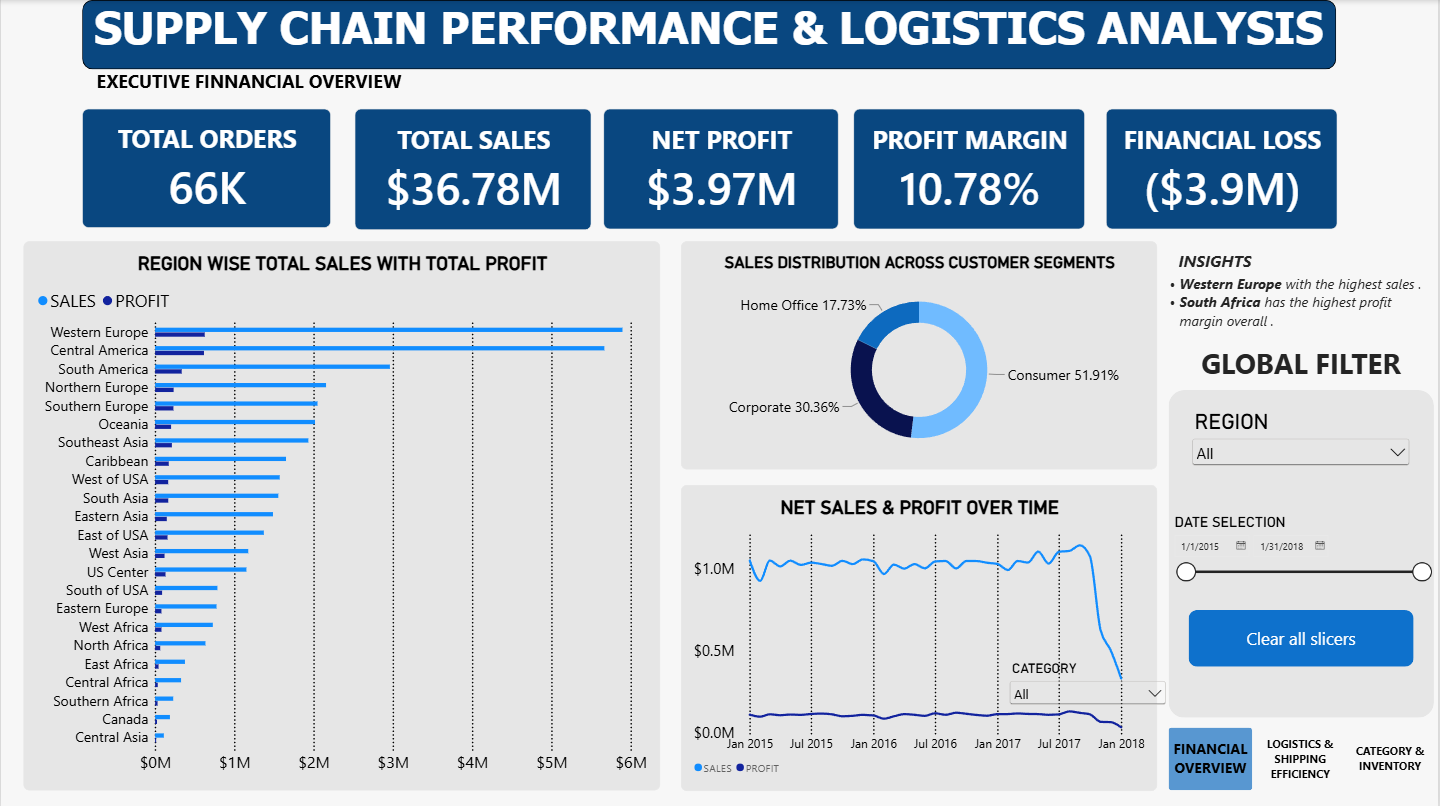

Layout of this report page (visuals, bound fields, positions):
{"tool":"powerbi","page":{"name":"FINANCIAL OVERVIEW","canvas":[1920,1080],"ordinal":0},"visuals":[{"type":"shape","box":[1559.9,521.2,354.7,437.9],"z":0},{"type":"shape","box":[108.7,0,1675,92.5],"z":1000},{"type":"textbox","box":[75.7,0,1740,93.1],"z":2000},{"type":"cardVisual","fields":{"Data":["_all_measures.total_order"]},"box":[108.6,144.8,333,159.3],"z":3000},{"type":"cardVisual","fields":{"Data":["_all_measures.total_sales"]},"box":[472.3,144.8,316.7,162.9],"z":4000},{"type":"clusteredBarChart","title":"REGION WISE TOTAL SALES WITH TOTAL PROFIT","fields":{"Category":["public supply_chain_clean.order_region"],"Y":["_all_measures.total_sales","_all_measures.total_profit"]},"box":[30.3,322.5,850.5,733.6],"z":5000},{"type":"cardVisual","fields":{"Data":["_all_measures.total_profit"]},"box":[805.3,144.8,314.9,161.1],"z":6000},{"type":"cardVisual","fields":{"Data":["_all_measures.profit_margin%"]},"box":[1138.3,144.8,309.5,161.1],"z":7000},{"type":"lineChart","title":"NET SALES & PROFIT OVER TIME","fields":{"Category":["public supply_chain_clean.order_date.Variation.Date Hierarchy.Year","public supply_chain_clean.order_date.Variation.Date Hierarchy.Quarter","public supply_chain_clean.order_date.Variation.Date Hierarchy.Month"],"Y":["_all_measures.total_sales","_all_measures.total_profit"]},"box":[908.9,647.1,636.3,409],"z":8000},{"type":"cardVisual","fields":{"Data":["_all_measures.total_financial_loss"]},"box":[1476.7,144.8,309.5,161.1],"z":9000},{"type":"donutChart","title":"SALES DISTRIBUTION ACROSS CUSTOMER SEGMENTS","fields":{"Category":["public supply_chain_clean.customer_segment"],"Y":["_all_measures.total_sales"]},"box":[908.9,322.5,636.3,305.1],"z":10000},{"type":"pageNavigator","box":[1560.3,971.7,354.9,84.4],"z":11000},{"type":"slicer","fields":{"Values":["public supply_chain_clean.order_region"]},"box":[1587.1,546.5,300.4,101.3],"z":12000},{"type":"slicer","fields":{"Values":["public supply_chain_clean.order_date"]},"box":[1559.9,685.9,354.7,166.5],"z":13000},{"type":"actionButton","box":[1587.1,814.3,300.8,75.7],"z":14000},{"type":"textbox","box":[1587.1,459.7,300.4,61.5],"z":15000},{"type":"textbox","box":[1545.5,365.6,369.2,94.1],"z":16000},{"type":"textbox","box":[1572.6,334.8,342,30.8],"z":17000},{"type":"textbox","box":[108.6,92.3,445.2,67],"z":18000},{"type":"slicer","fields":{"Values":["public supply_chain_clean.category_name"]},"box":[1341.8,880.8,218.6,90.9],"z":19002}]}

Visuals, with their boxes in screenshot pixels (x1, y1, x2, y2), scaled from the page's 1920x1080 canvas onto the 1440x806 screenshot:
shape: bbox=(1170, 389, 1436, 716)
shape: bbox=(82, 0, 1338, 69)
textbox: bbox=(57, 0, 1362, 69)
cardVisual - _all_measures.total_order: bbox=(81, 108, 331, 227)
cardVisual - _all_measures.total_sales: bbox=(354, 108, 592, 230)
"REGION WISE TOTAL SALES WITH TOTAL PROFIT" clusteredBarChart: bbox=(23, 241, 661, 788)
cardVisual - _all_measures.total_profit: bbox=(604, 108, 840, 228)
cardVisual - _all_measures.profit_margin%: bbox=(854, 108, 1086, 228)
"NET SALES & PROFIT OVER TIME" lineChart: bbox=(682, 483, 1159, 788)
cardVisual - _all_measures.total_financial_loss: bbox=(1108, 108, 1340, 228)
"SALES DISTRIBUTION ACROSS CUSTOMER SEGMENTS" donutChart: bbox=(682, 241, 1159, 468)
pageNavigator: bbox=(1170, 725, 1436, 788)
slicer - public supply_chain_clean.order_region: bbox=(1190, 408, 1416, 483)
slicer - public supply_chain_clean.order_date: bbox=(1170, 512, 1436, 636)
actionButton: bbox=(1190, 608, 1416, 664)
textbox: bbox=(1190, 343, 1416, 389)
textbox: bbox=(1159, 273, 1436, 343)
textbox: bbox=(1179, 250, 1436, 273)
textbox: bbox=(81, 69, 415, 119)
slicer - public supply_chain_clean.category_name: bbox=(1006, 657, 1170, 725)
